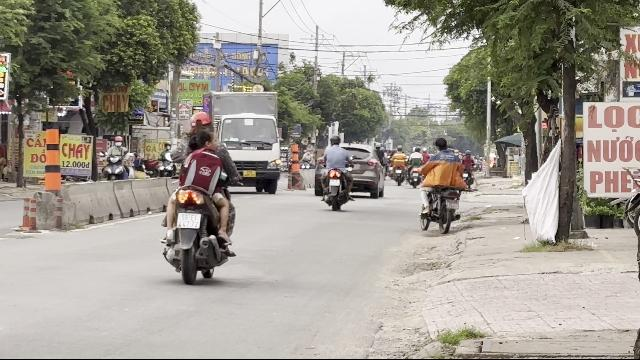helmet: (189, 111, 213, 133)
licenseplate: (177, 212, 201, 228), (445, 200, 459, 210)
motorcyclist: (158, 109, 238, 283), (416, 136, 472, 233)
nohelmet: (187, 130, 213, 154), (434, 137, 446, 151)
